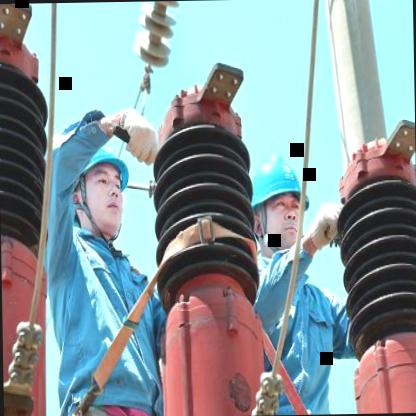helmet: (64, 122, 136, 242), (246, 146, 310, 260)
